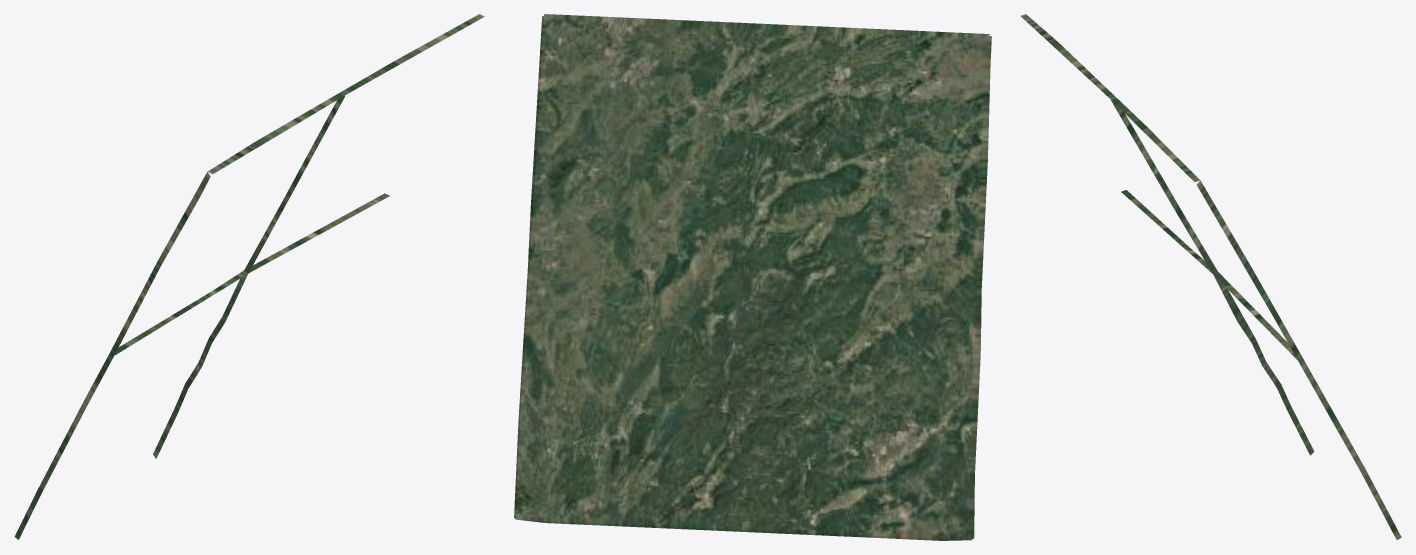
3 renders of one model, left to right at view 1: azimuth 30°, elevation 25°; view 2: azimuth 150°, elevation 25°; view 3: azimuth 270°, elevation 25°, orthographic. The views are drawn at different scales.
Bounding box in the file's own units: 317350 × 283076 × 246083.
Materials: 1 (1 with a texture image).
